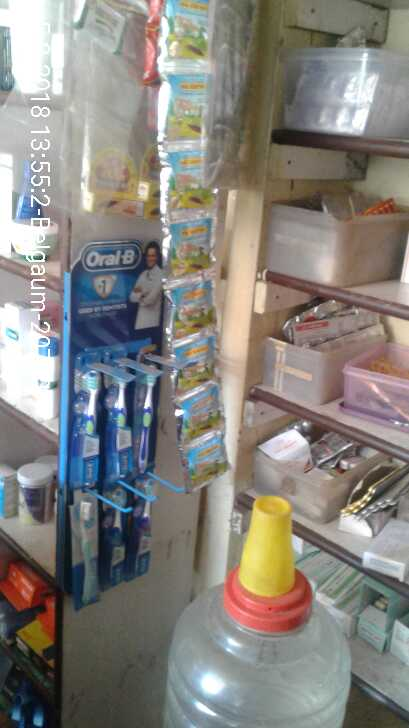oralb: (71, 355, 169, 593)
